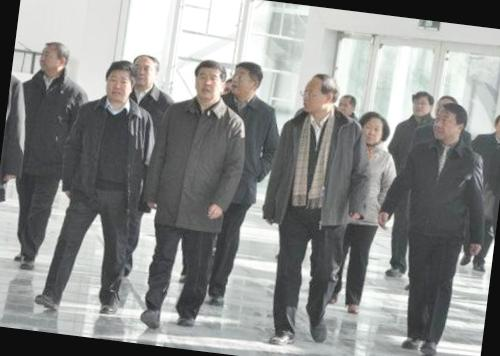no_helmet: (296, 68, 340, 122), (186, 56, 229, 109), (430, 93, 471, 148), (224, 57, 268, 104), (98, 56, 137, 106), (34, 34, 72, 81), (354, 106, 392, 152), (129, 48, 162, 93), (404, 86, 435, 123), (335, 92, 359, 123), (491, 108, 500, 142)
